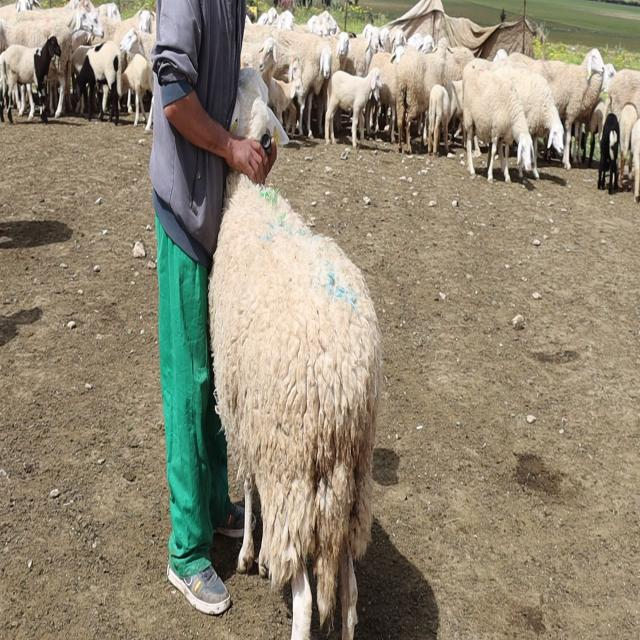Score_2: (208, 172, 382, 639)
